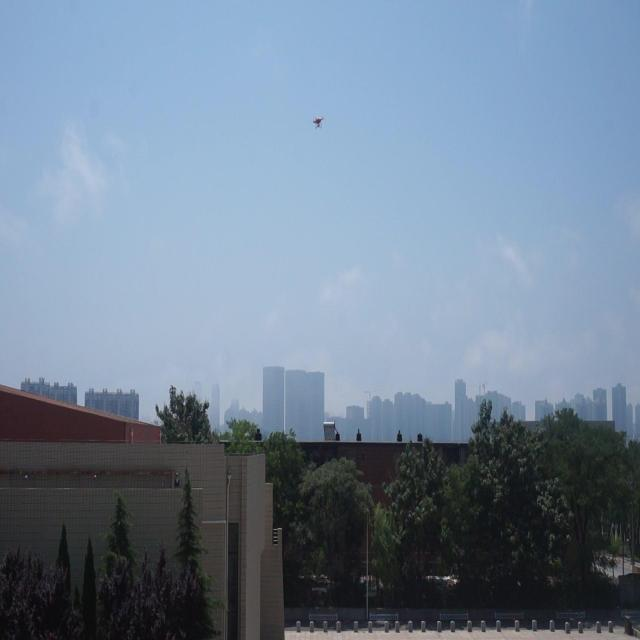drone: (308, 111, 326, 132)
